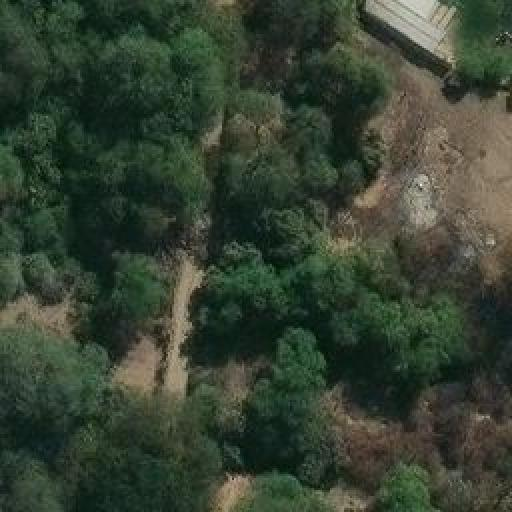manzanas: (357, 0, 510, 91)
